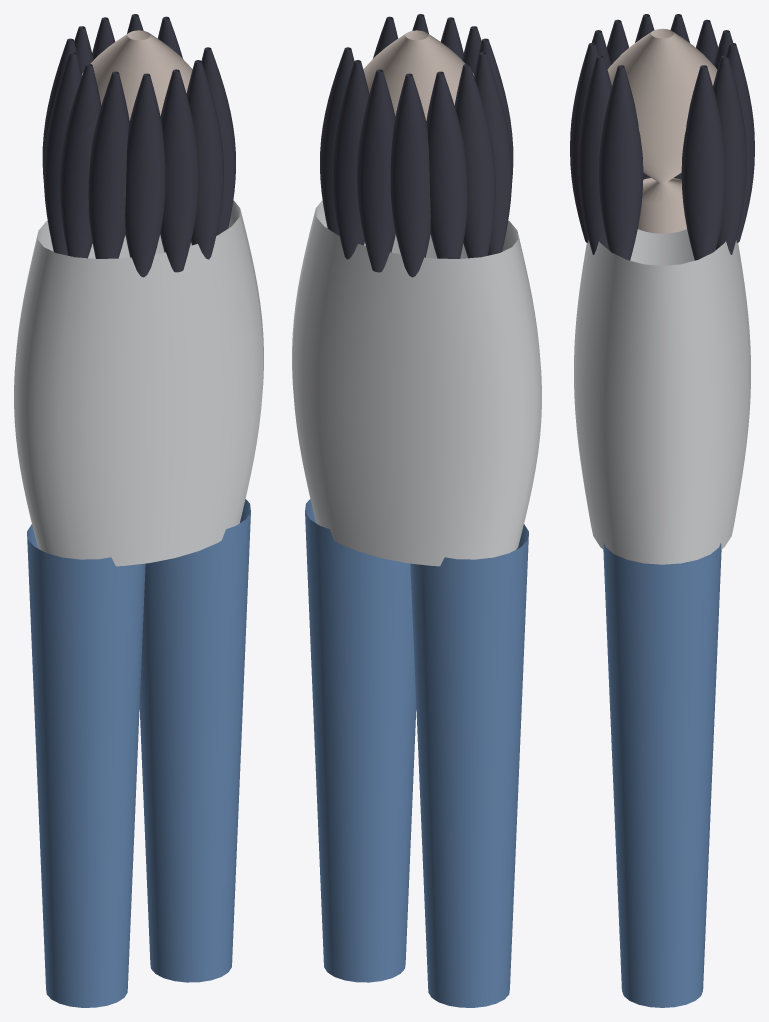
File: yumik_body.glb
3 views of the same model, side by side, from view 1: azimuth 30°, elevation 25°; view 2: azimuth 150°, elevation 25°; view 3: azimuth 270°, elevation 25° (orthographic).
Parts seen in each view (by area): view 1: YumikBlueJeans, YumikPajamaTop, YumikBlackHair, YumikSkin; view 2: YumikBlueJeans, YumikPajamaTop, YumikBlackHair, YumikSkin; view 3: YumikPajamaTop, YumikBlueJeans, YumikBlackHair, YumikSkin.
Boxes of the visible parts, x1,y1,x2,y2 form: YumikBlueJeans: (27,499,250,1007); YumikPajamaTop: (14,200,263,566); YumikBlackHair: (42,14,235,277); YumikSkin: (81,30,192,236); YumikBlueJeans: (305,499,528,1007); YumikPajamaTop: (292,200,541,566); YumikBlackHair: (320,14,513,277); YumikSkin: (363,30,474,236); YumikPajamaTop: (574,229,750,564); YumikBlueJeans: (603,543,721,1007); YumikBlackHair: (570,14,754,260); YumikSkin: (607,28,717,233).
Size of the model in its own units: 0.4953 by 1.9 by 0.3418.
